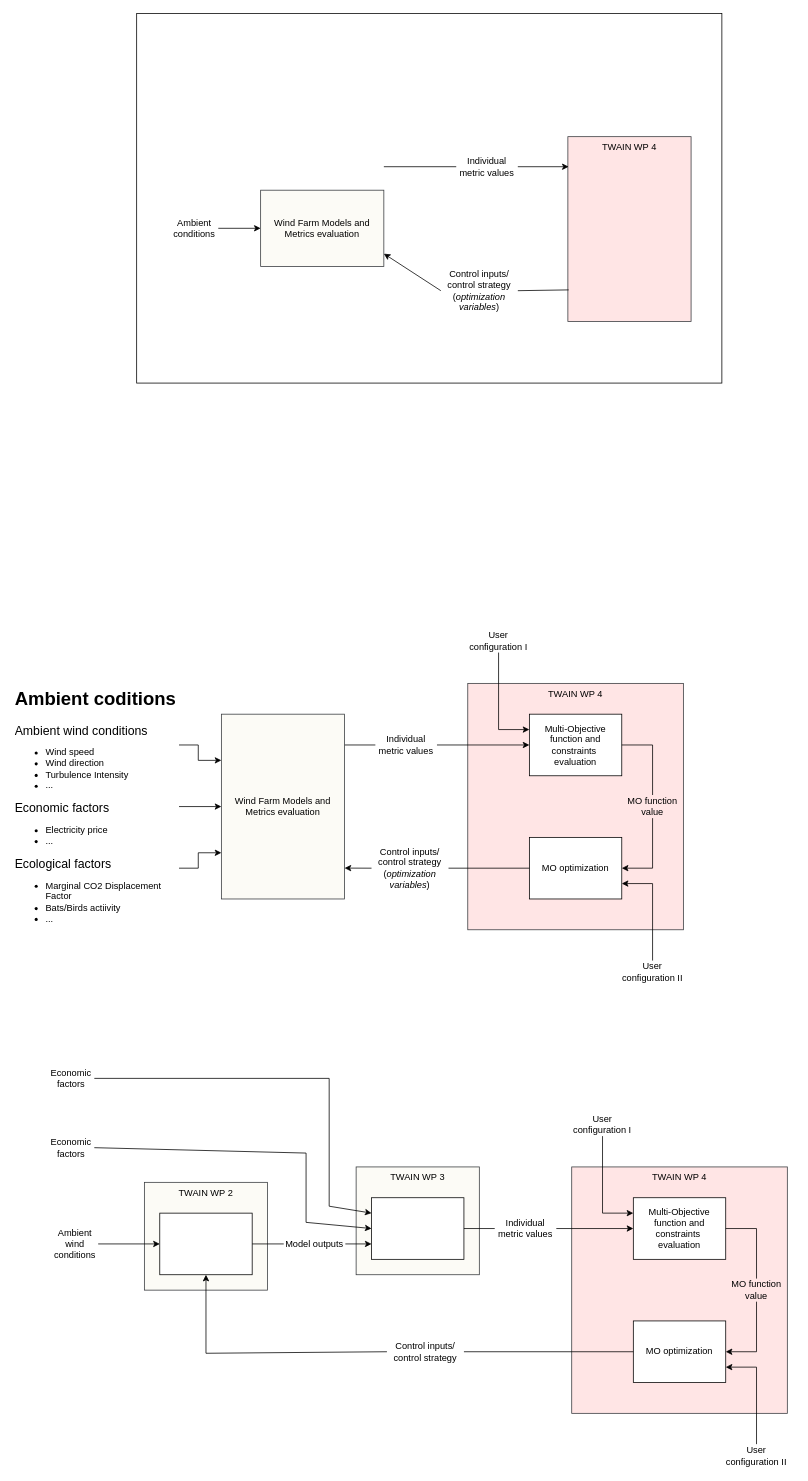
This 808x1481 diagram has some shape labels left out. Each missing label, with the centre of its shape:
"Metrics evaluation" belongs at point (417, 1228).
"Wind farm surrogate models" belongs at point (205, 1243).
